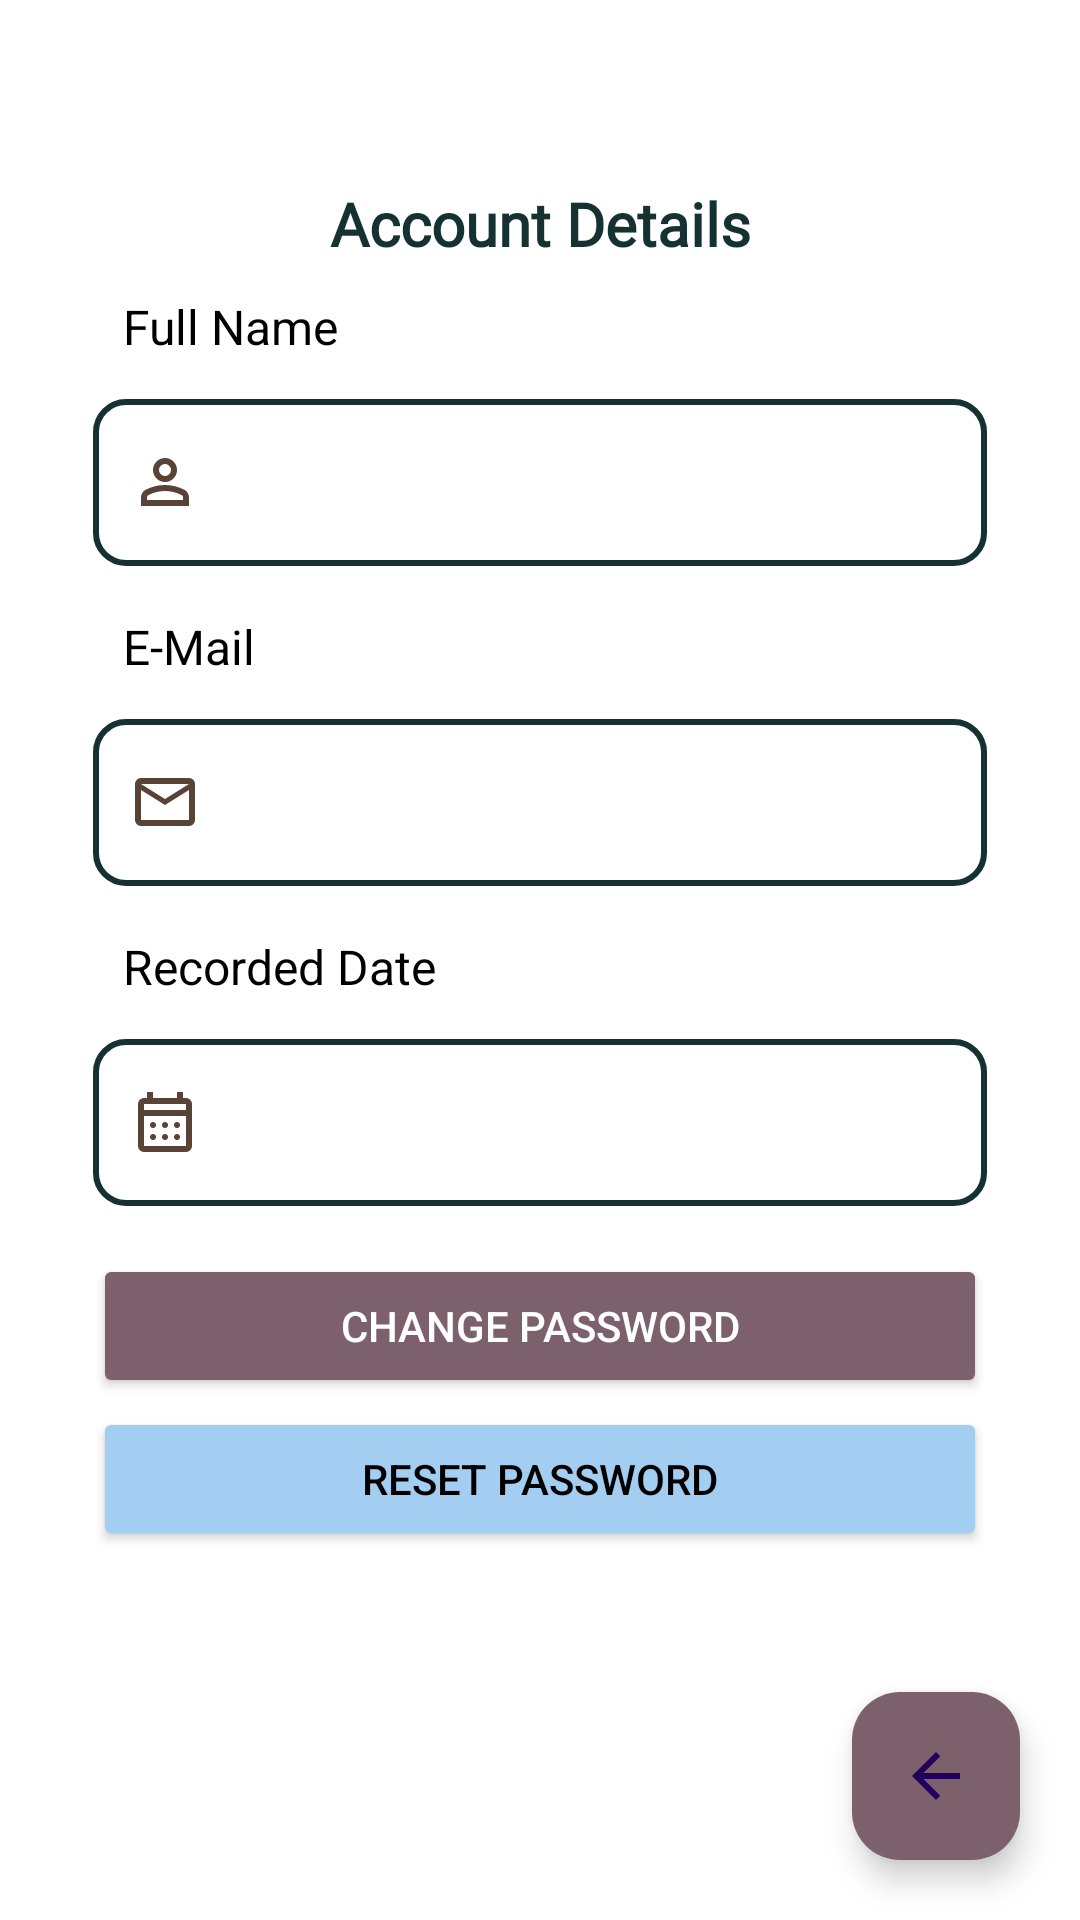

Where icons sit on this 1080 × 1920 app screen, as (x1, y1, x2, y2):
back: (852, 1692, 1020, 1860)
